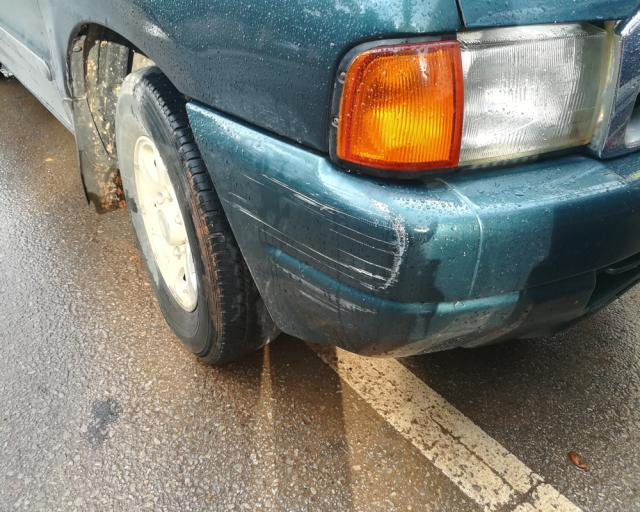scratch: (232, 172, 407, 325)
